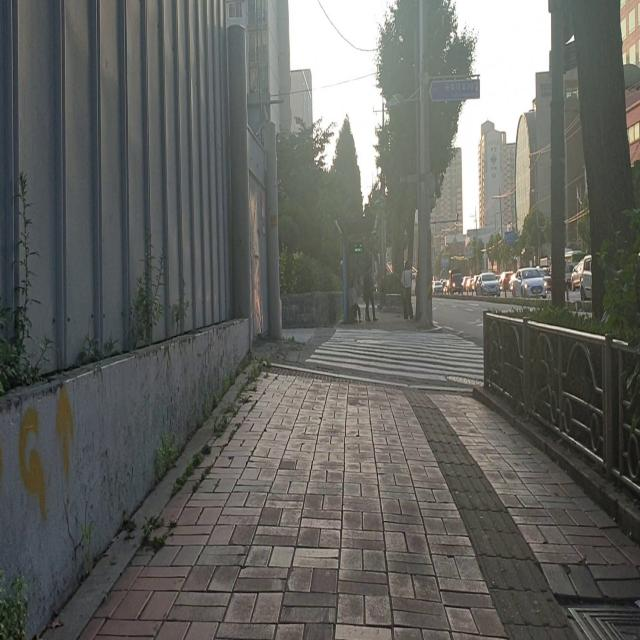횡단보도: (304, 328, 484, 386)
